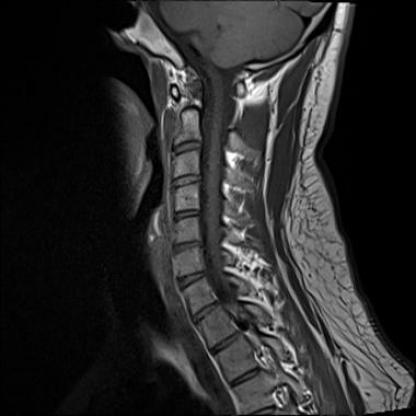Disc Bulgerotation: (170, 239, 202, 254)
